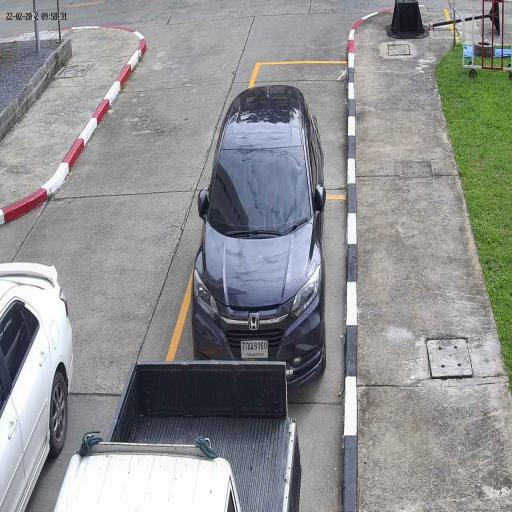car: (188, 84, 328, 386), (52, 360, 303, 512), (0, 261, 75, 508)
